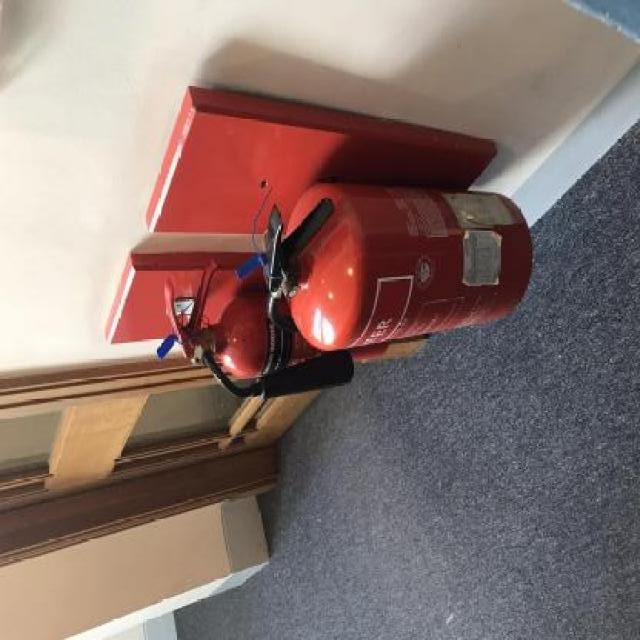fire extinguisher: (262, 178, 533, 353), (164, 260, 424, 403)
